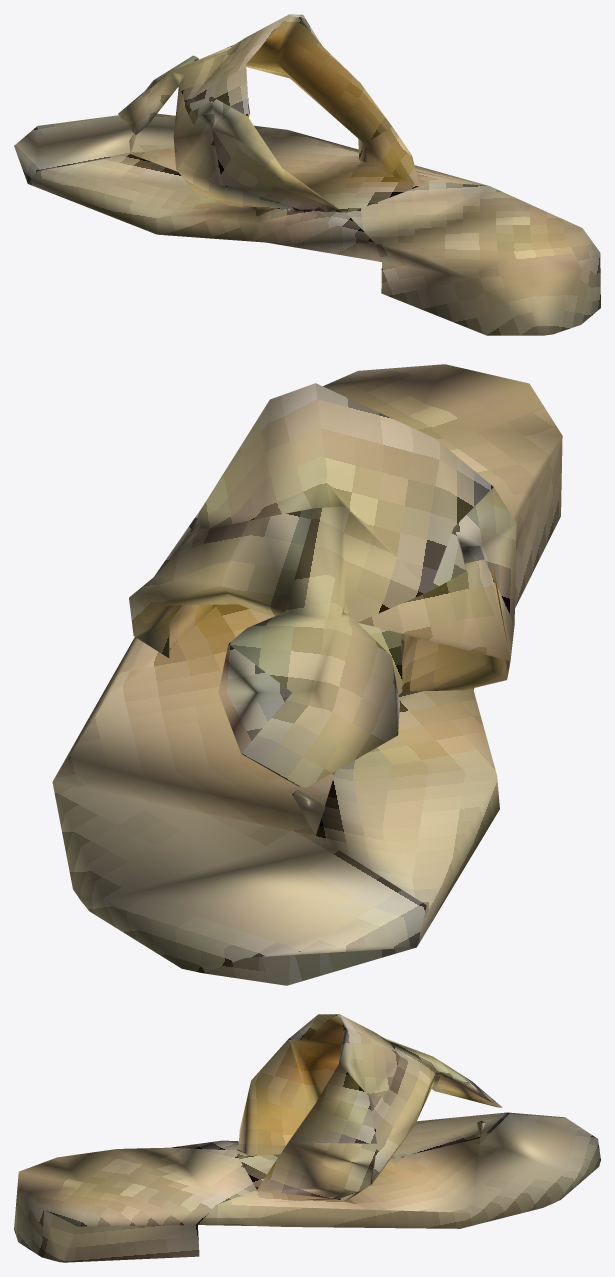
Rendered from NAPA_VALLEY_NAVAJO_SANDAL-low.glb.
3 views of the same model, one above another, from view 1: azimuth 30°, elevation 25°; view 2: azimuth 150°, elevation 25°; view 3: azimuth 270°, elevation 25° (orthographic). The views are drawn at different scales.
Visible parts, largest first — view 1: NAPA_VALLEY_NAVAJO_SANDAL; view 2: NAPA_VALLEY_NAVAJO_SANDAL; view 3: NAPA_VALLEY_NAVAJO_SANDAL.
Part boxes in pixels (box(x1,y1,x2,y2)): NAPA_VALLEY_NAVAJO_SANDAL: box(14, 14, 600, 335); NAPA_VALLEY_NAVAJO_SANDAL: box(52, 364, 562, 985); NAPA_VALLEY_NAVAJO_SANDAL: box(14, 1014, 600, 1262).
Bounding box in the file's own units: 0.1267 × 0.0803 × 0.2322.
1 material, 1 textured.
